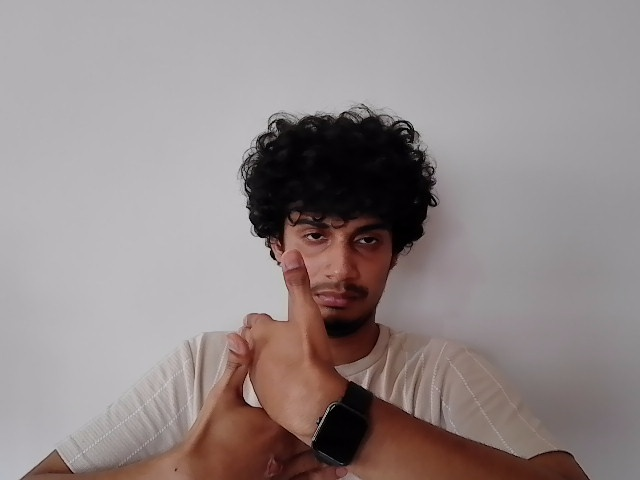work: (182, 251, 355, 480)
